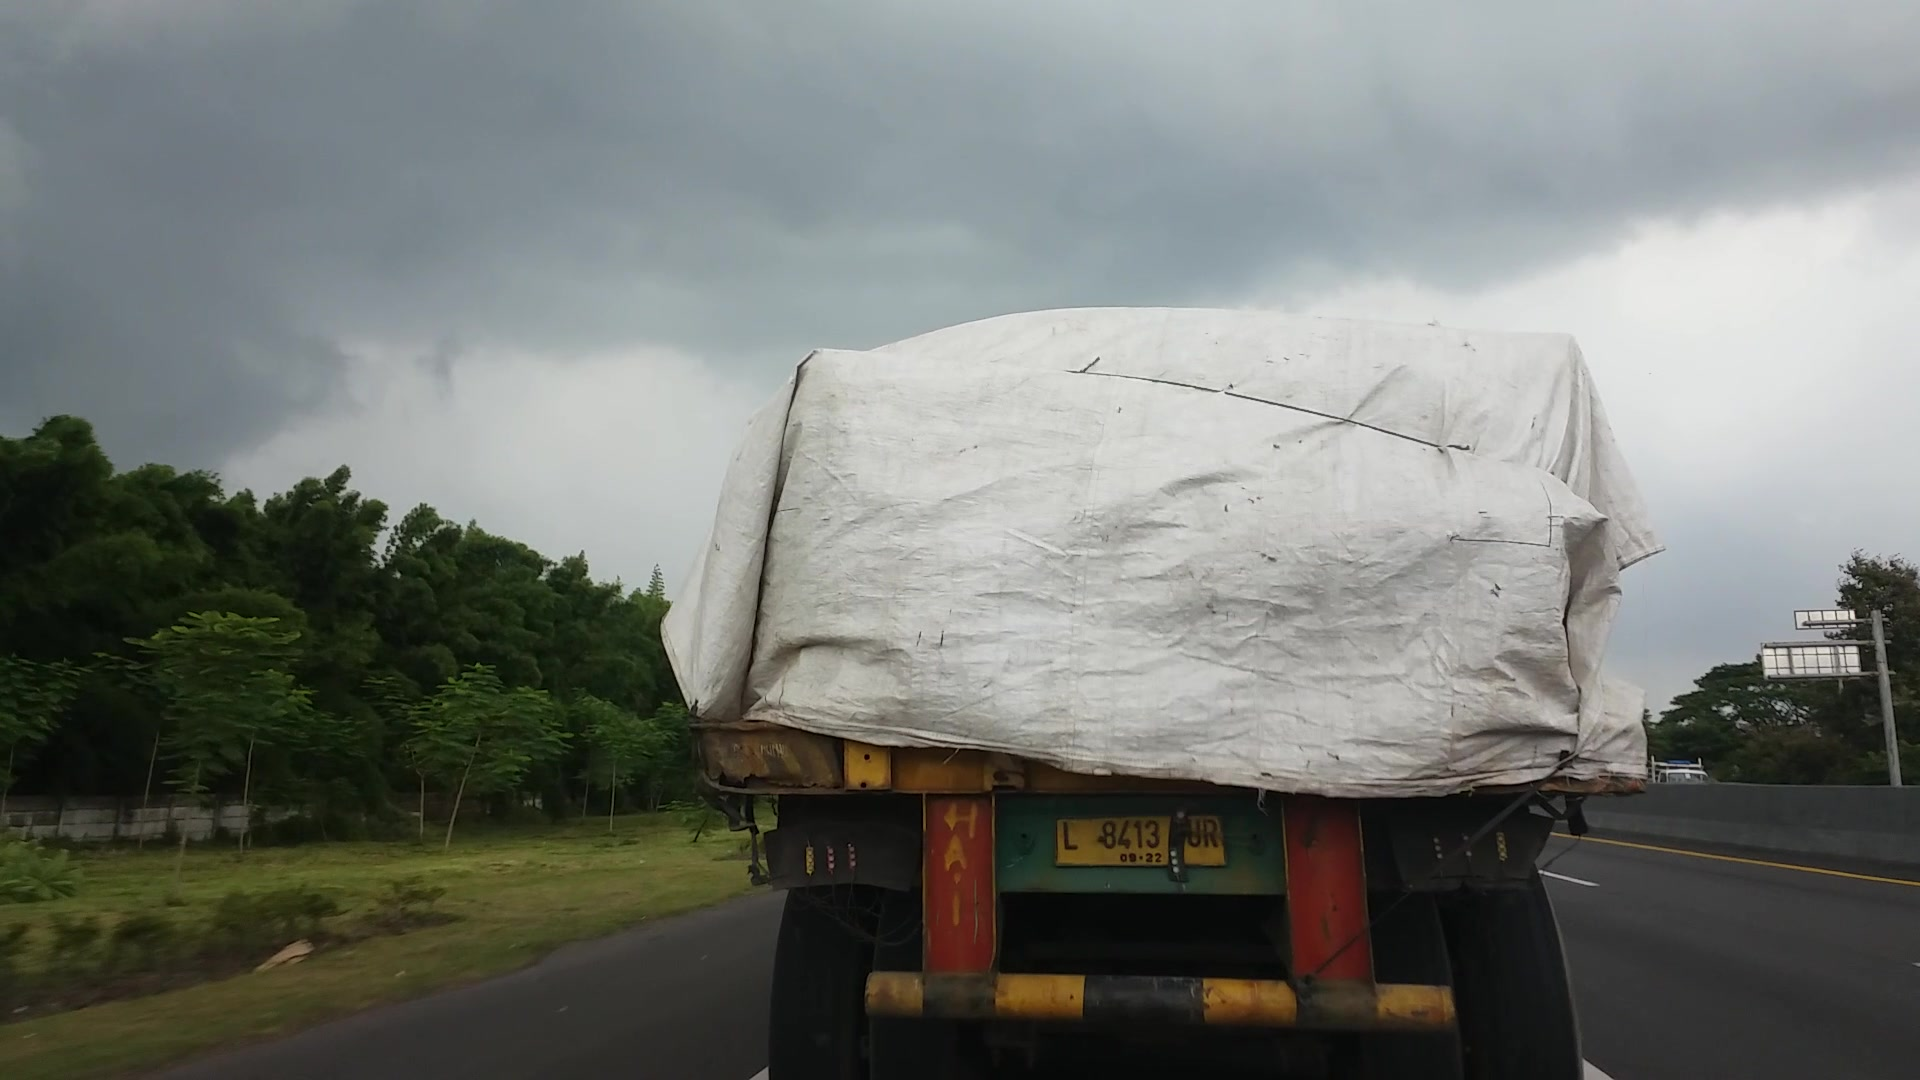plate_positive: (1055, 814, 1228, 866)
